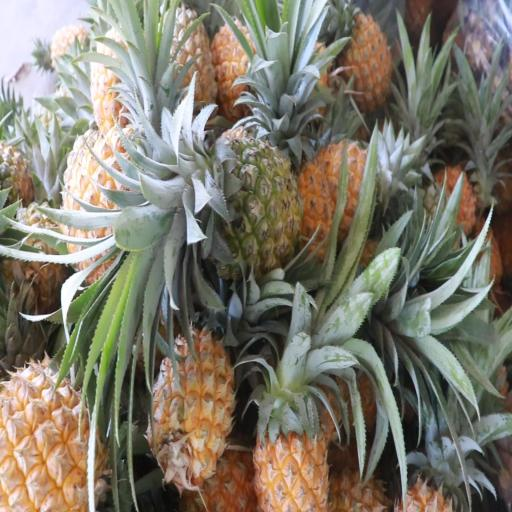Pineapple - v8 v1: (0, 355, 126, 512), (59, 126, 178, 282), (253, 328, 334, 512), (152, 320, 237, 494), (332, 12, 400, 115)
